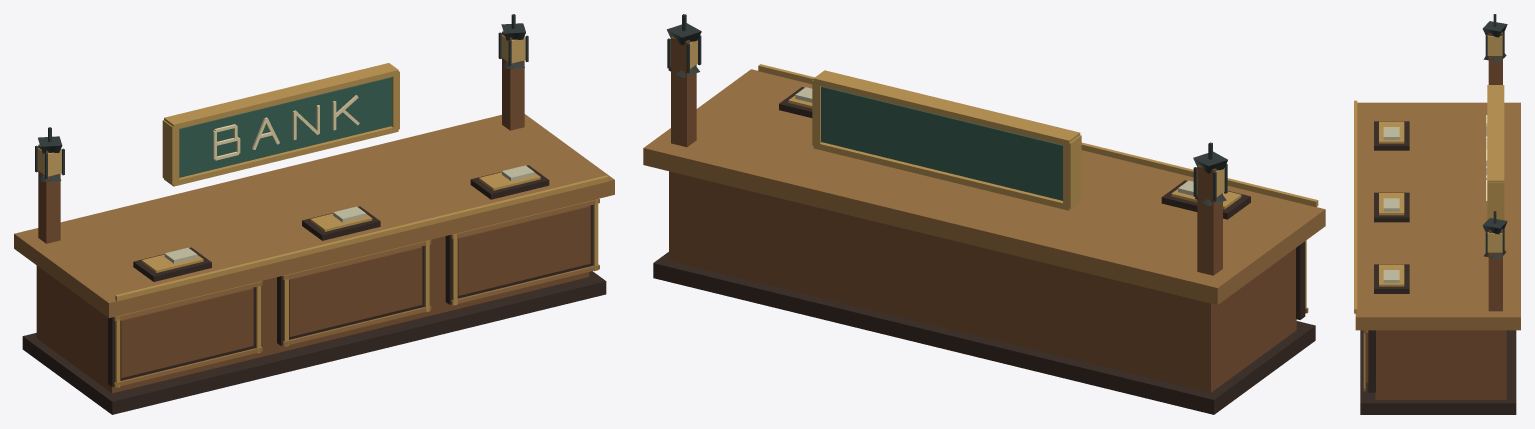
Rendered from bank-counter-v1.glb.
The picture shows the model from 3 angles, left to right: view 1: azimuth 30°, elevation 25°; view 2: azimuth 150°, elevation 25°; view 3: azimuth 270°, elevation 25°; orthographic projection. The views are drawn at different scales.
Visible parts, largest first — view 1: bank-counter; view 2: bank-counter; view 3: bank-counter.
Boxes of the visible parts, x1,y1,x2,y2 form: bank-counter: (14,14,614,414); bank-counter: (643,14,1325,414); bank-counter: (1354,14,1520,414).
Bounding box in the file's own units: 6 × 2.57 × 1.97.
